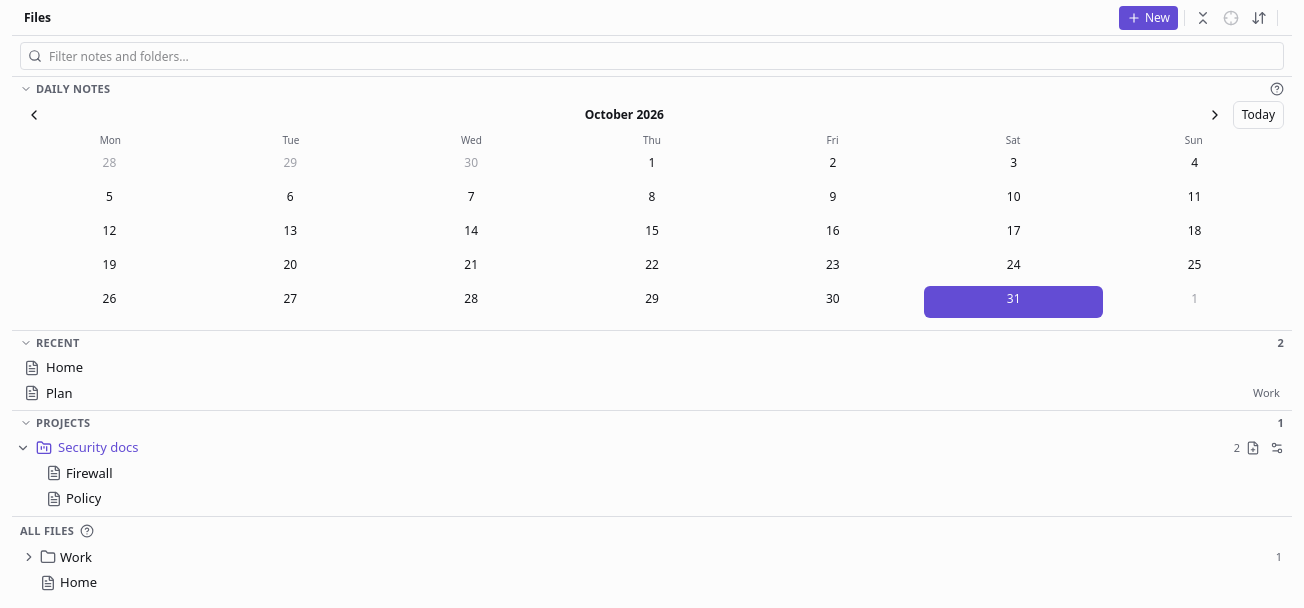
it: FilesPanel › right-clicking a project offers the same choices as a folder in All files
Right-click the element with test id "project-Work/Security" at point(652, 448), box [12, 435, 1292, 460]
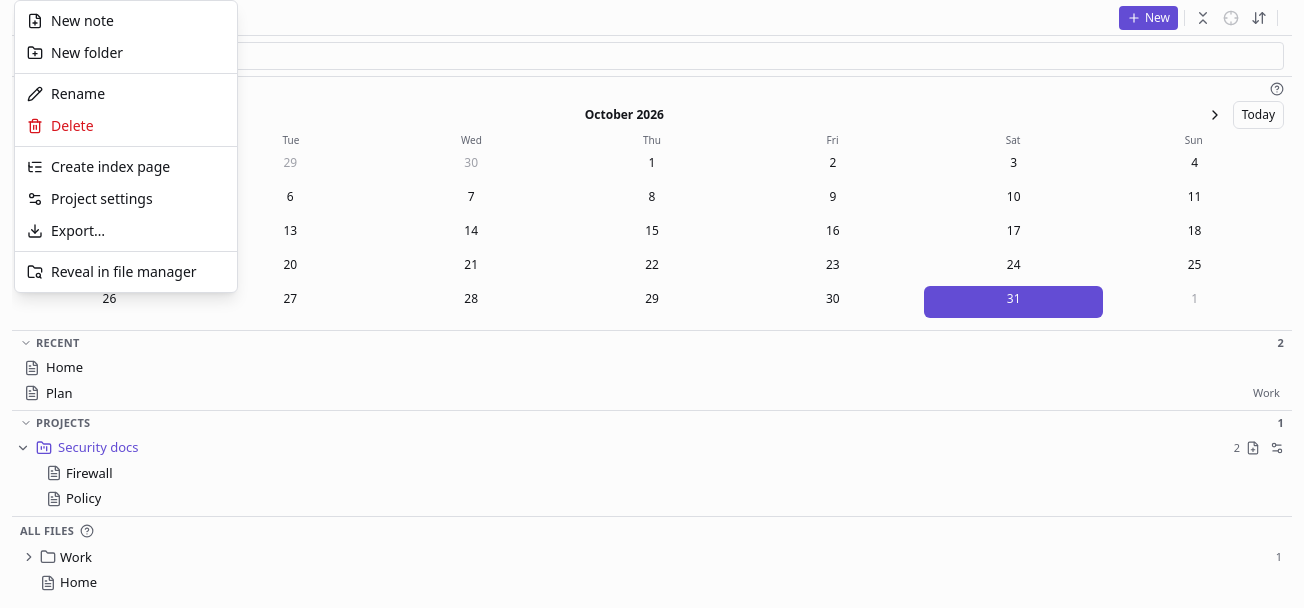
expect the menu item "New note" is shown: met, box [27, 11, 114, 30]
expect the menu item "New folder" is shown: met, box [27, 43, 123, 62]
expect the menu item "Rename" is shown: met, box [27, 84, 105, 103]
